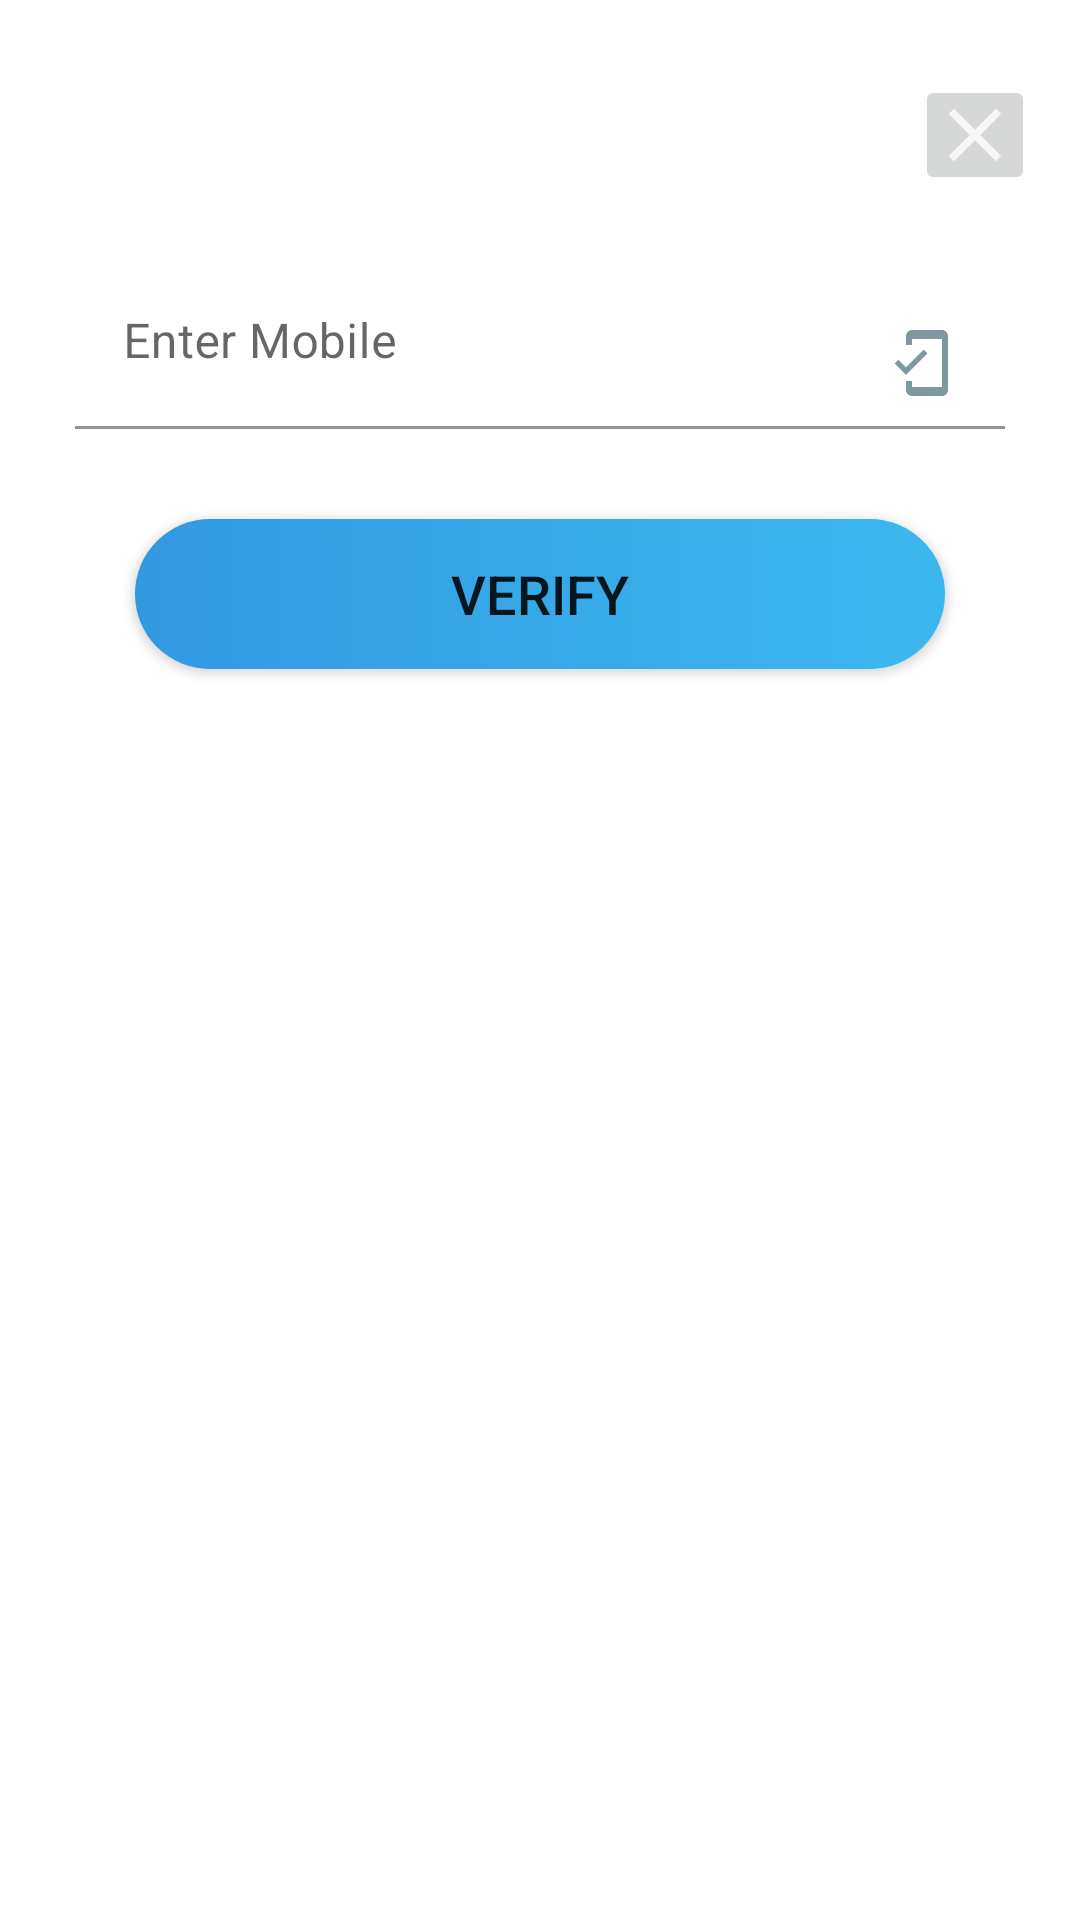

Where to tap for icons on this 1080 × 1920 app screen, as (x=x, y=y):
closeicon: (x=975, y=135)
